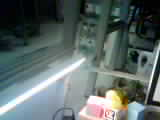duck: (95, 83, 127, 107)
